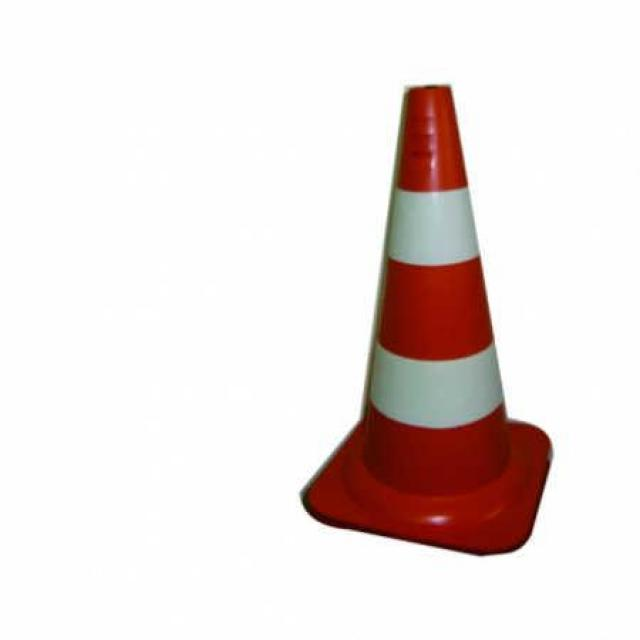cone: (311, 79, 551, 550)
